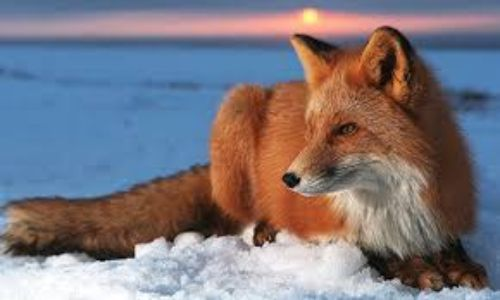fox: (49, 17, 487, 289)
